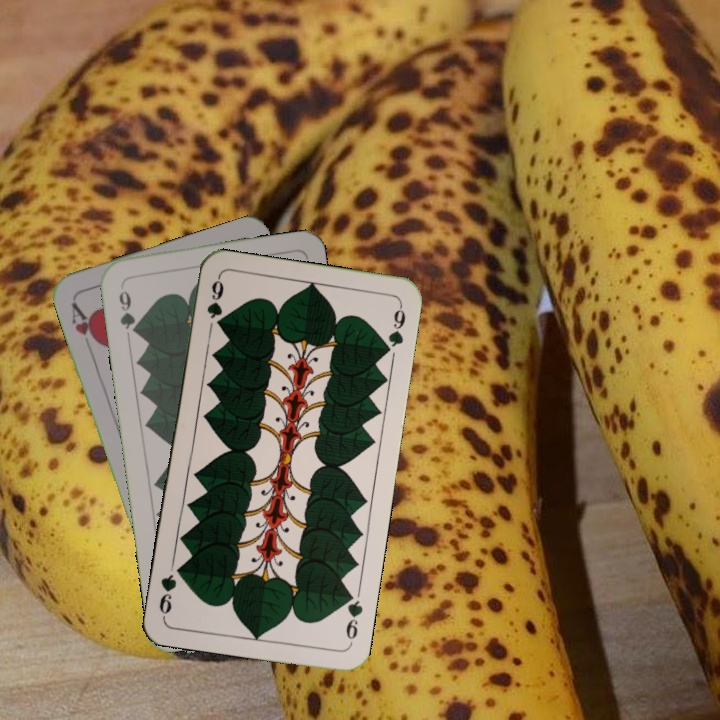G9: (115, 280, 141, 338), (341, 587, 366, 647), (202, 274, 226, 321)
HA: (67, 298, 103, 349)
